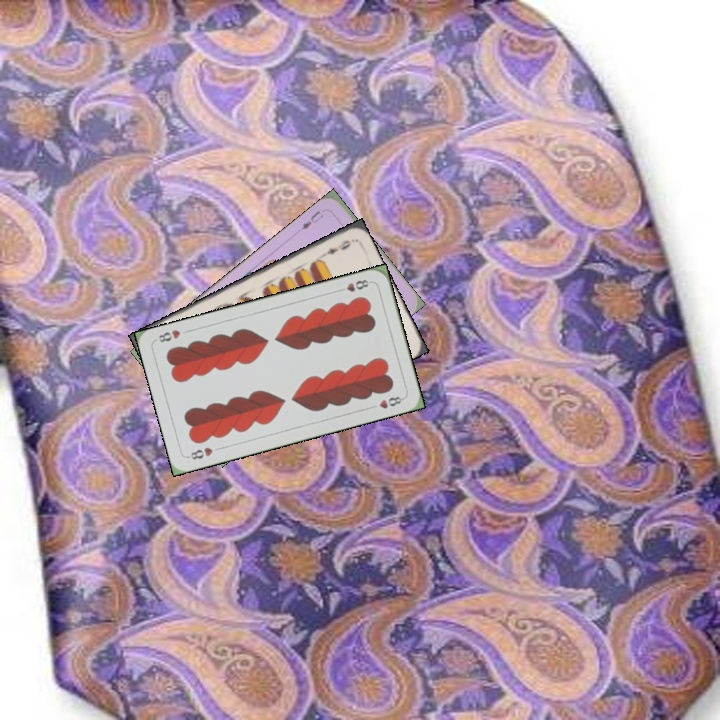E9: (317, 235, 354, 260)
EU: (297, 207, 326, 232)
H8: (334, 276, 374, 295), (184, 443, 215, 462)
